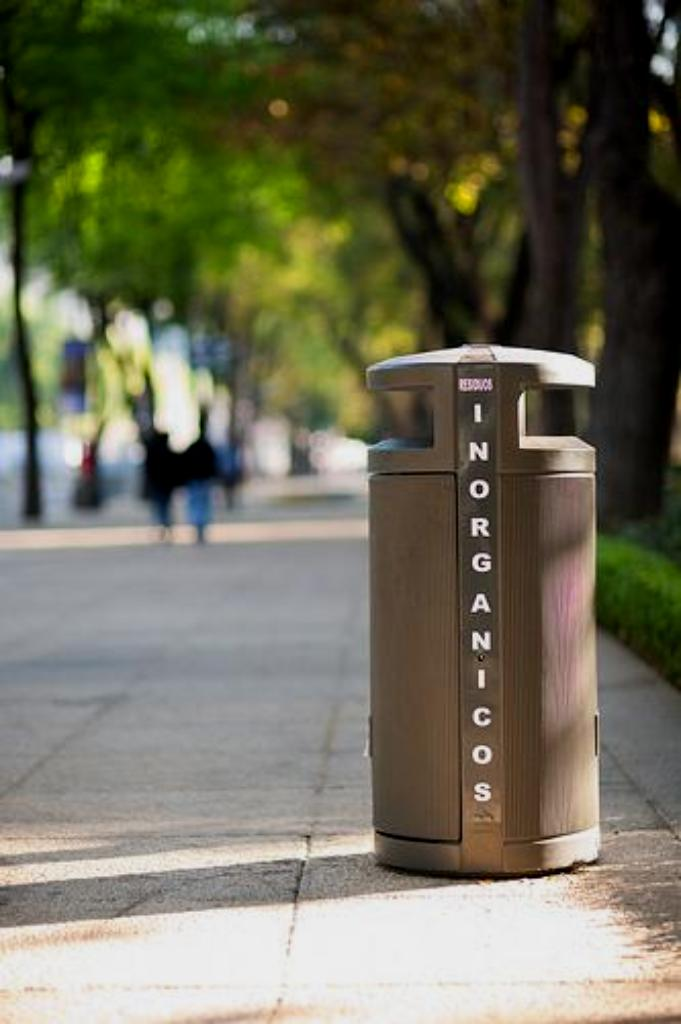dustbin: (355, 327, 618, 889)
